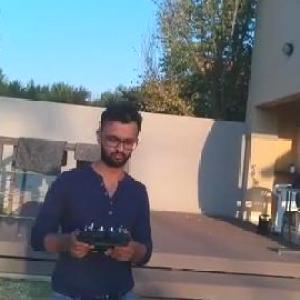follow: (22, 93, 156, 299)
